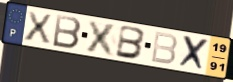B: (114, 24, 148, 61), (51, 13, 83, 51), (150, 30, 180, 66)
X: (83, 19, 119, 58), (176, 34, 211, 73), (23, 10, 54, 46)
